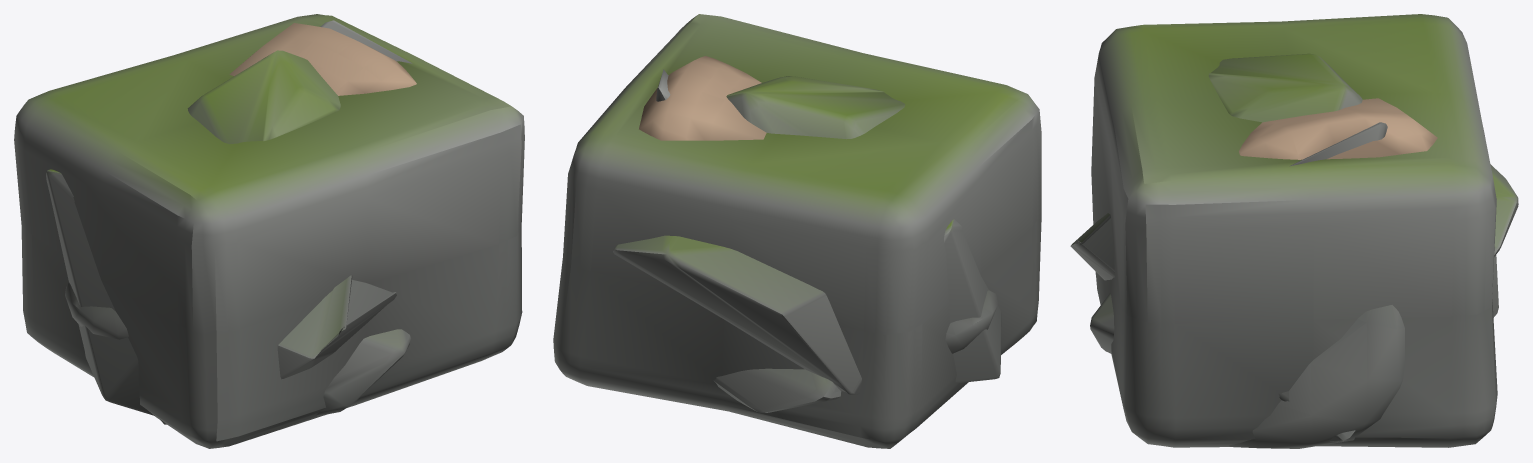
File: rocks.glb
3 views of the same model, side by side, from view 1: azimuth 30°, elevation 25°; view 2: azimuth 150°, elevation 25°; view 3: azimuth 270°, elevation 25° (orthographic). The views are drawn at different scales.
Visible parts, largest first — view 1: rock1, rock0, rock4, rock3, rock2, rock5; view 2: rock1, rock0, rock4, rock3, rock2; view 3: rock1, rock2, rock4, rock3, rock0, rock5.
Part boxes in pixels (<box>): rock1: <box>14,14,524,448</box>; rock0: <box>46,169,396,415</box>; rock4: <box>160,50,410,424</box>; rock3: <box>229,23,416,95</box>; rock2: <box>65,282,128,339</box>; rock5: <box>320,20,412,63</box>; rock1: <box>553,14,1041,448</box>; rock0: <box>613,219,1001,394</box>; rock4: <box>713,76,905,412</box>; rock3: <box>639,56,766,140</box>; rock2: <box>945,290,998,353</box>; rock1: <box>1091,14,1497,447</box>; rock2: <box>1229,305,1404,448</box>; rock4: <box>1090,53,1498,353</box>; rock3: <box>1239,98,1437,159</box>; rock0: <box>1070,164,1518,441</box>; rock5: <box>1290,122,1387,166</box>.
Size of the model in its own units: 2 by 1.45 by 1.92.
